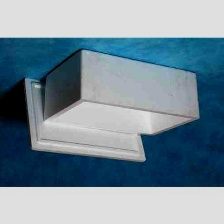foam_box: (17, 46, 206, 167)
